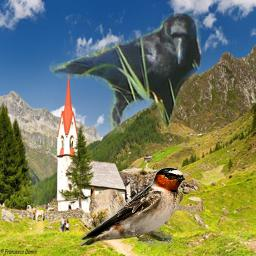Crow: (49, 13, 201, 133)
Swallow: (79, 166, 187, 246)
